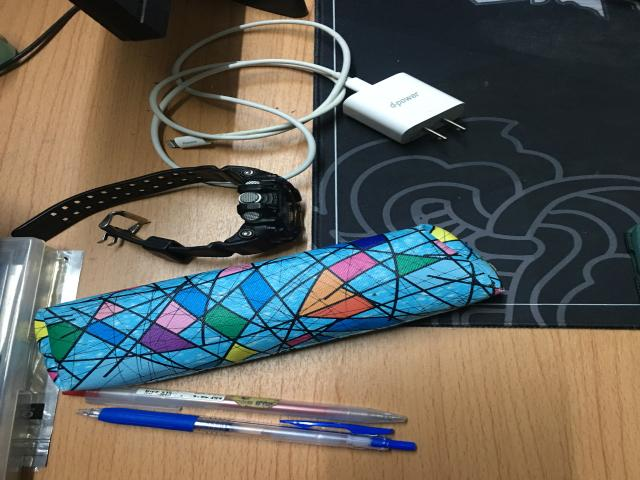Pen: (63, 387, 417, 451)
Watch: (12, 166, 302, 262)
wire: (150, 20, 463, 161)
